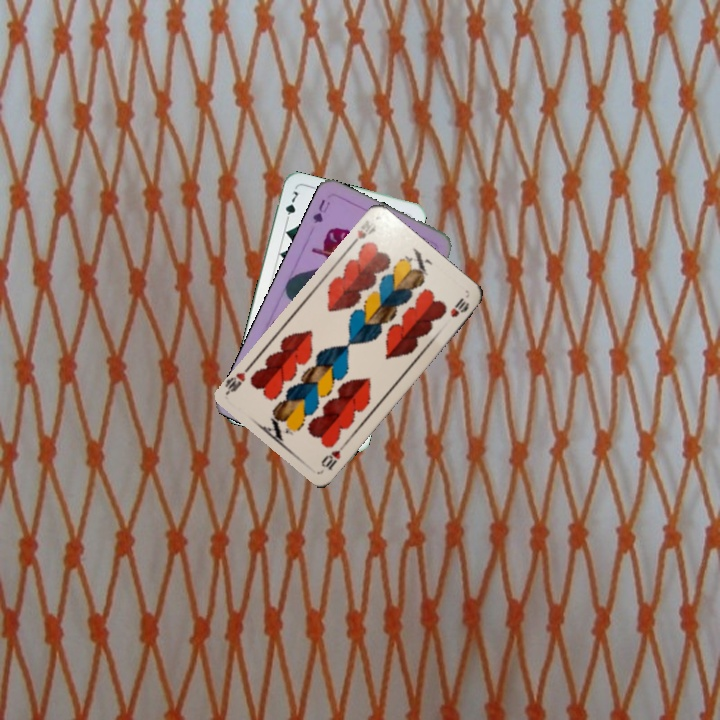G7: (281, 187, 303, 226)
GU: (309, 195, 333, 226)
H10: (346, 216, 381, 249), (317, 438, 349, 473)
